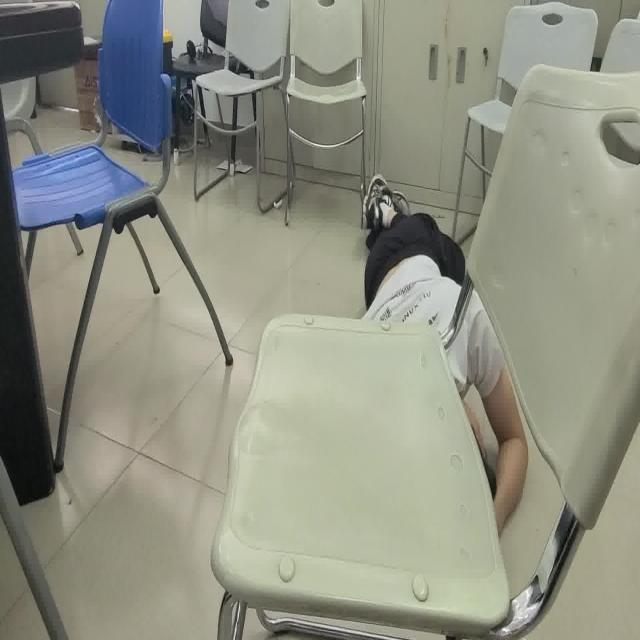Fall-Detected: (357, 174, 532, 543)
